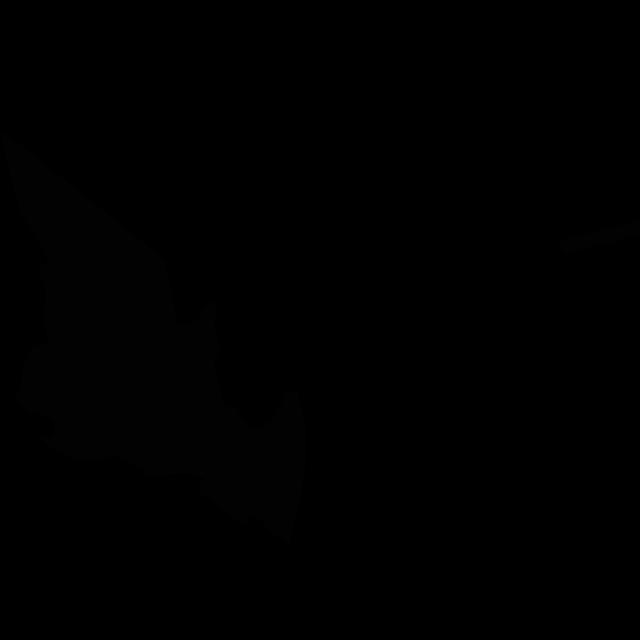cardboard: (0, 131, 227, 479), (195, 390, 306, 545), (559, 220, 640, 255)
